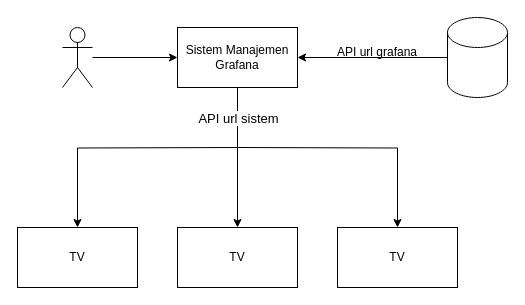
This 525x305 diagram has some shape labels left out. Each missing label, with the centre of its shape:
"Admin" goes at (77,57).
"Grafana" goes at (477,57).
